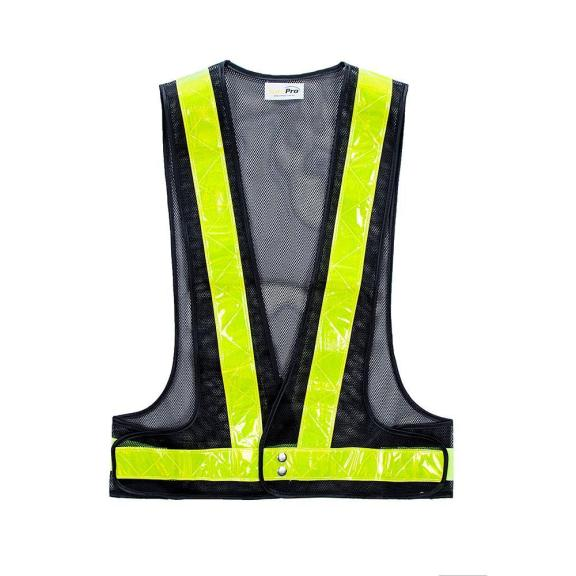safety_vest: (106, 57, 456, 506)
